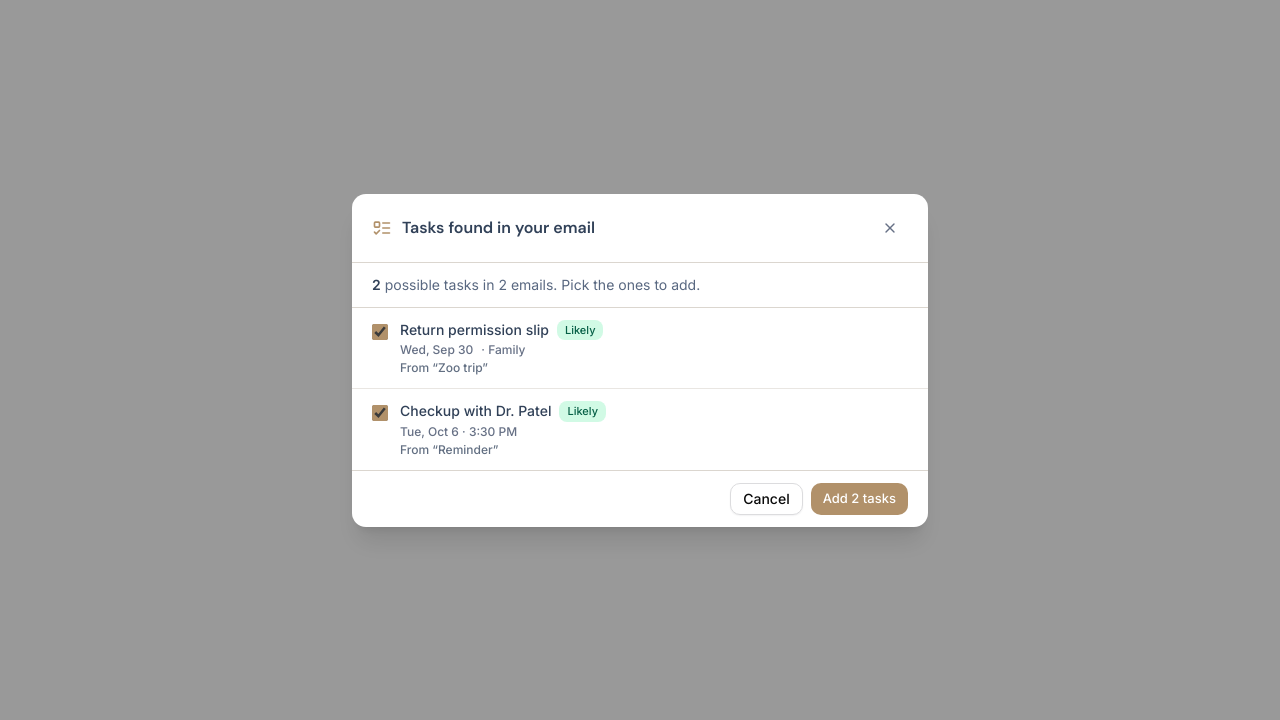
Test: adds selected tasks and, on a partial failure, keeps only the failed one so a retry cannot duplicate
Click the button "Add 2 tasks" at (859, 498), box [811,482,908,514]
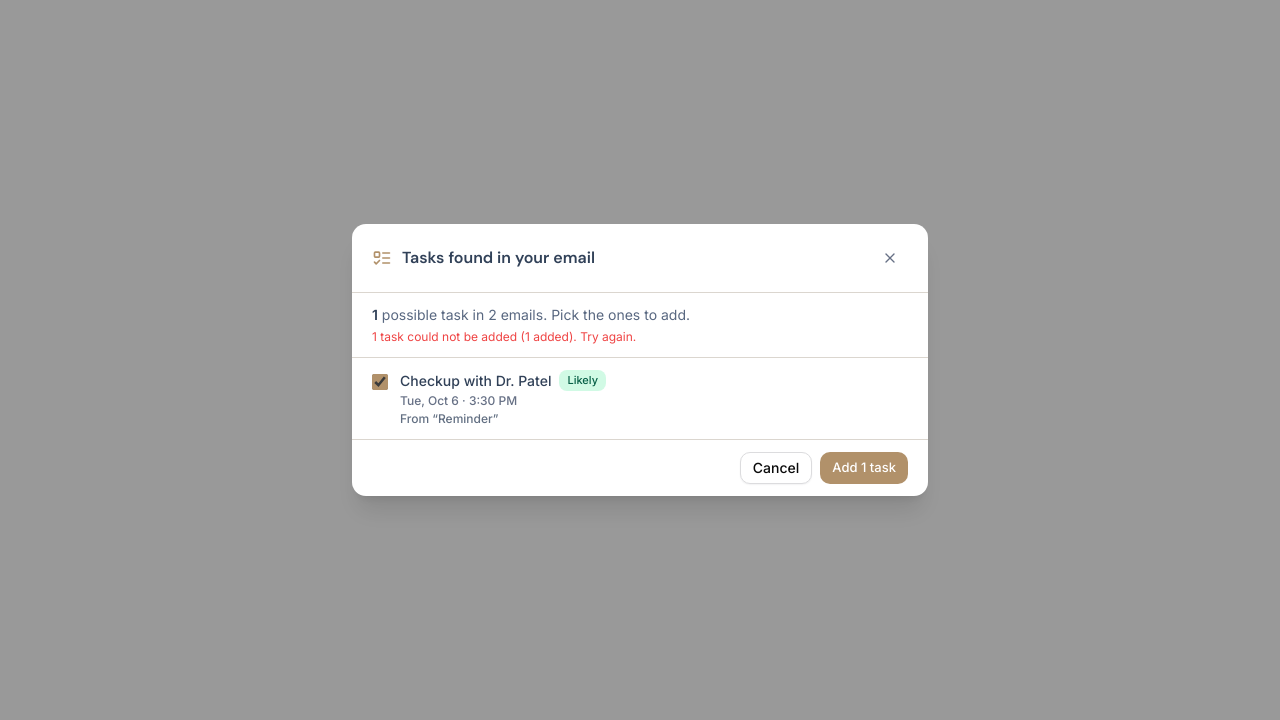
Check: the text "1 task could not be added (1 added). Try again." is shown, box [372,329,636,344]
Check: the text "Return permission slip" is gone
Click the button "Add 1 task" at (864, 468), box [820,452,908,484]
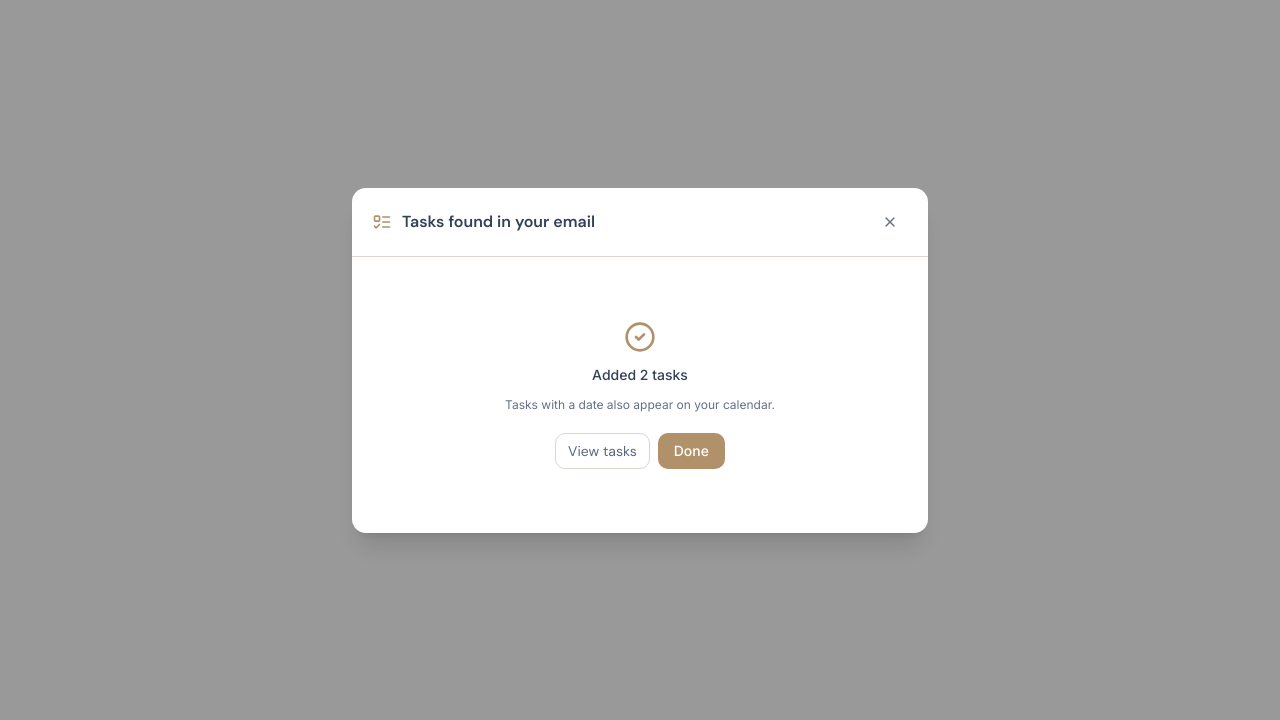
Check: the text "Added 2 tasks" is shown, box [592,364,688,384]
